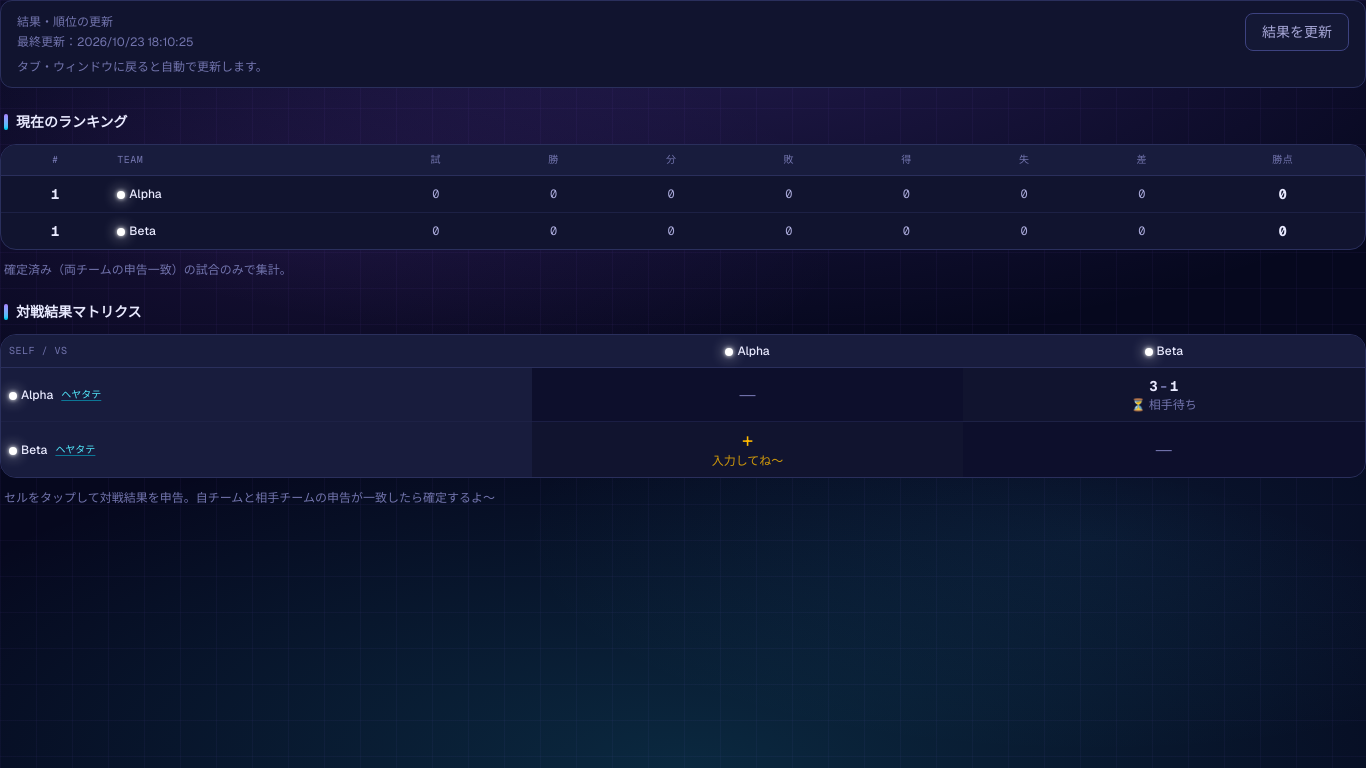
it: MatchMatrix result refresh › closes and shows the saved score without waiting for a slow refresh
Step 1. Click the text "⏳ 相手待ち" → (1164, 405), box [1131,397,1197,413]
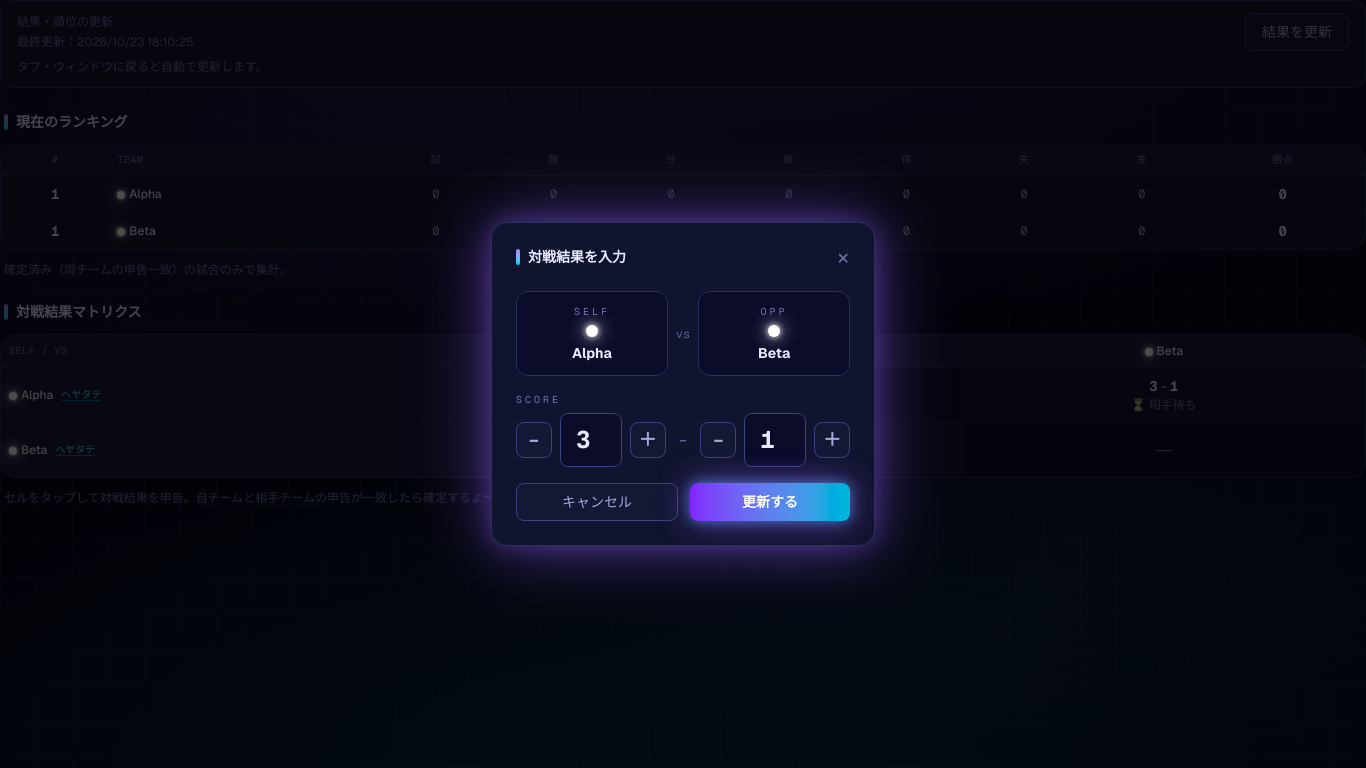
Step 2. Replace the text in the number field named "Alphaのスコア" with "5" → (591, 440), box [560,413,622,467]
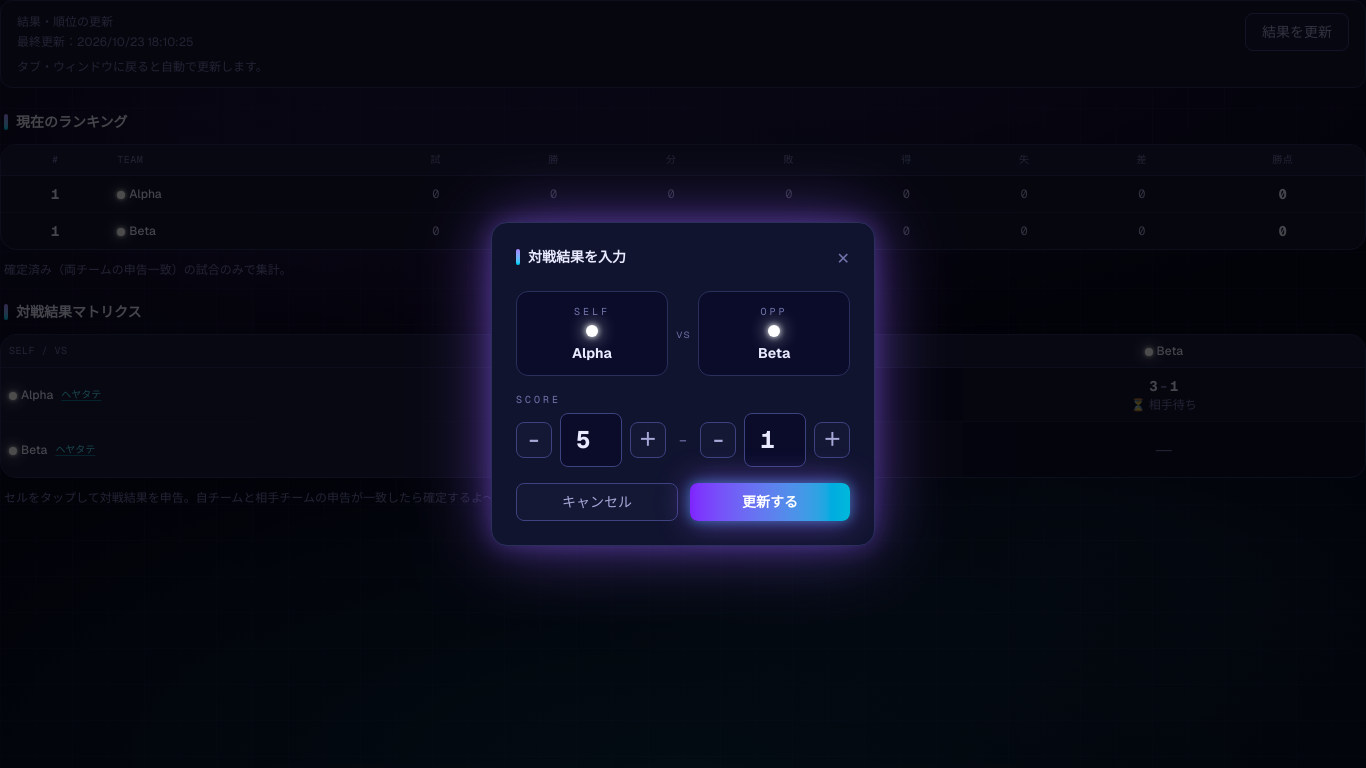
Step 3. Click the button "更新する" → (770, 502), box [690,483,850,521]
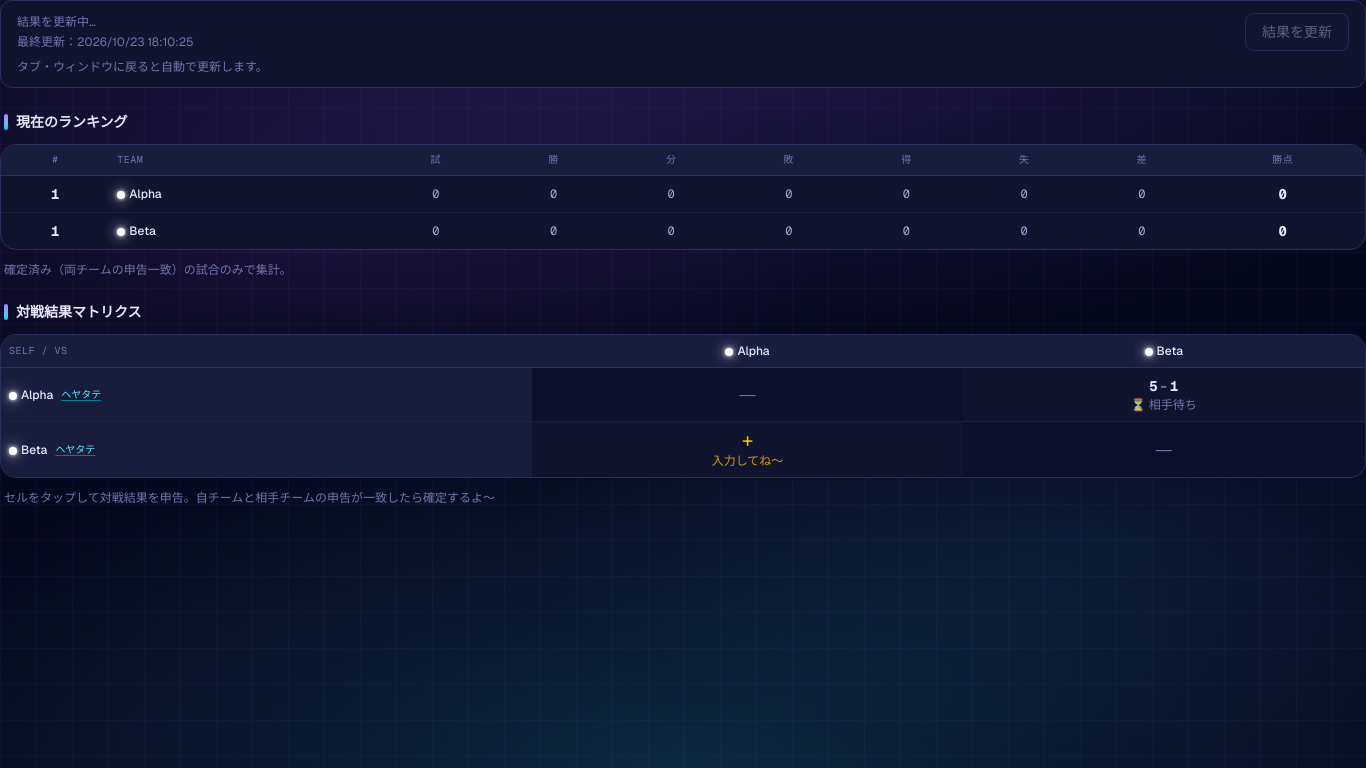
Check: the dialog is gone
Check: the text "結果を更新中…" is shown, box [17,14,96,30]
Step 4. Click the text "⏳ 相手待ち" → (1164, 405), box [1131,397,1197,413]
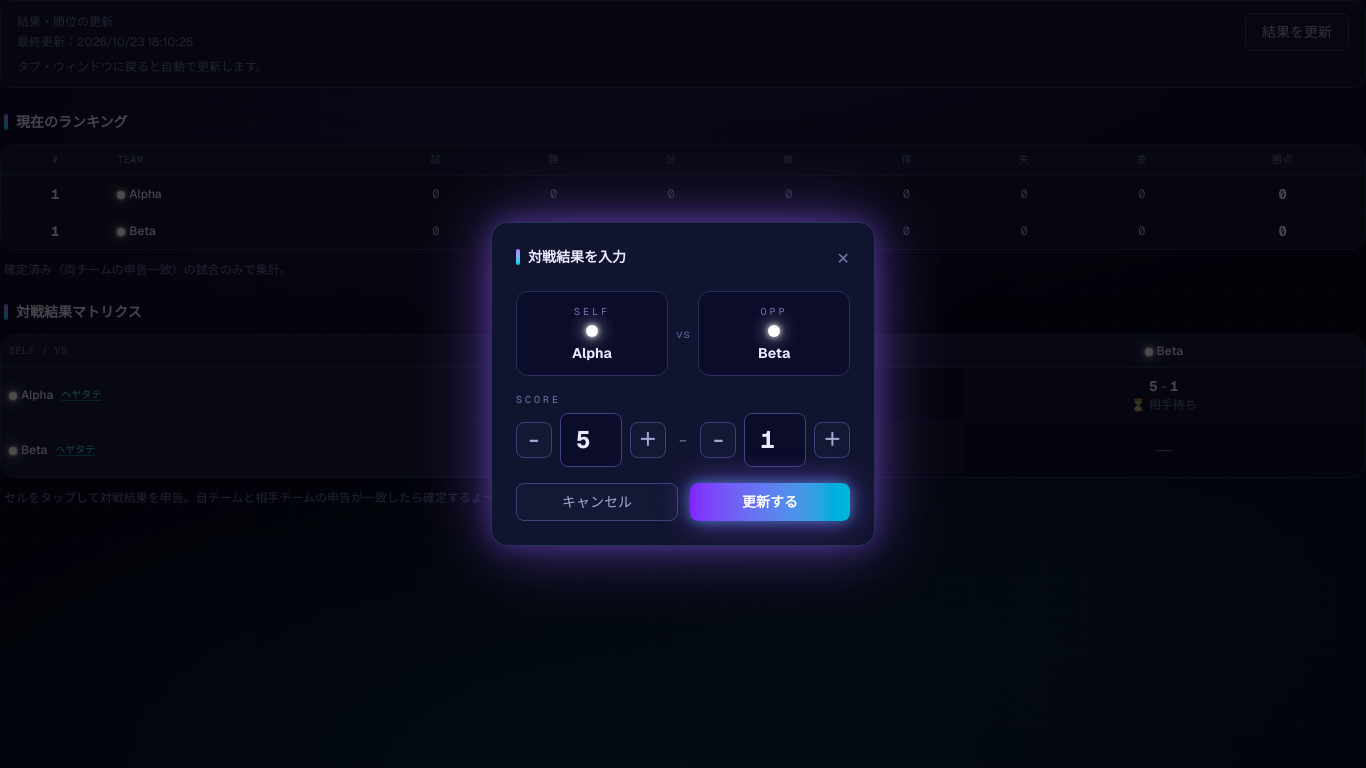
Check: the number field named "Alphaのスコア" holds "5", box [560,413,622,467]
